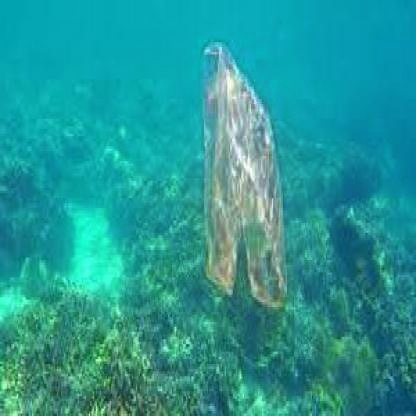pbag: (193, 30, 290, 319)
